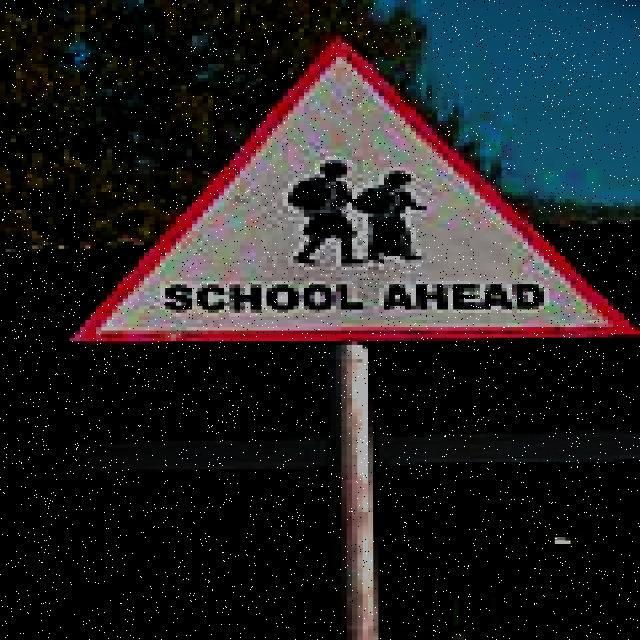Traffic sign: (63, 27, 640, 352)
